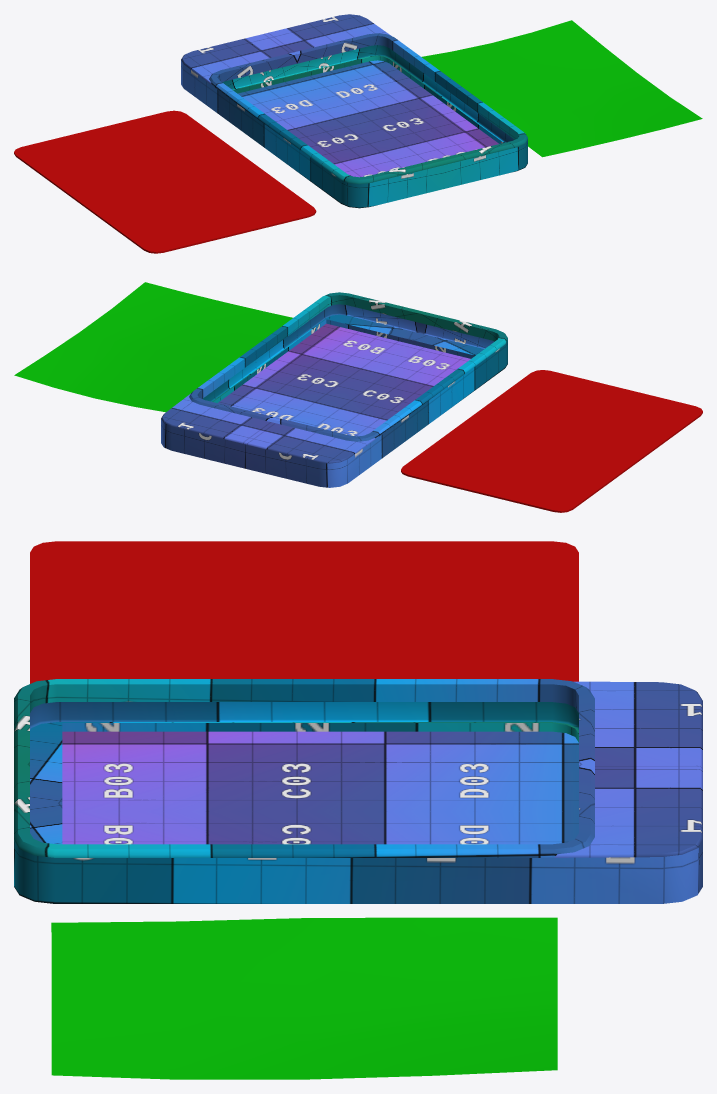
Rendered from ADSupport_low.fbx.
3 renders of one model, top to bottom at view 1: azimuth 30°, elevation 25°; view 2: azimuth 150°, elevation 25°; view 3: azimuth 270°, elevation 25°, orthographic. The views are drawn at different scales.
Parts seen in each view (by area): view 1: SUpport_low, Glass_low, paper_low; view 2: SUpport_low, Glass_low, paper_low; view 3: SUpport_low, paper_low, Glass_low.
Part boxes in pixels (x1,y1,x2,y2): SUpport_low: [181, 14, 527, 208]; Glass_low: [14, 110, 316, 253]; paper_low: [422, 20, 702, 157]; SUpport_low: [161, 292, 507, 487]; Glass_low: [401, 370, 702, 512]; paper_low: [14, 282, 292, 412]; SUpport_low: [14, 679, 702, 903]; paper_low: [51, 917, 557, 1079]; Glass_low: [30, 541, 578, 683].
Size of the model in its own units: 146 by 8.2 by 80.86.
